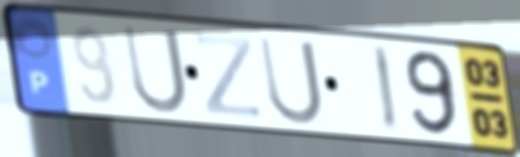9: (403, 47, 461, 139), (69, 22, 120, 109)
I: (368, 41, 403, 136)
U: (254, 33, 327, 129), (118, 22, 191, 117)
Z: (193, 31, 264, 122)
